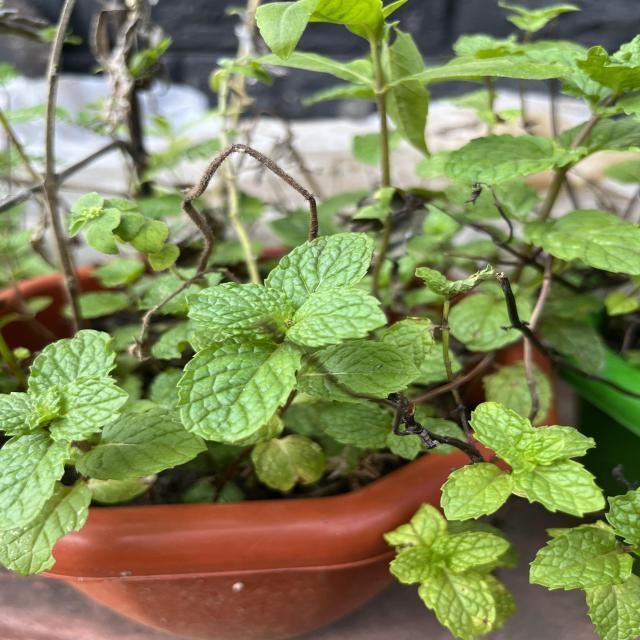Mentha spicata: (175, 338, 307, 444), (527, 525, 634, 592), (263, 232, 377, 290), (183, 281, 295, 338), (287, 287, 389, 349), (438, 460, 513, 522), (468, 401, 534, 452)
